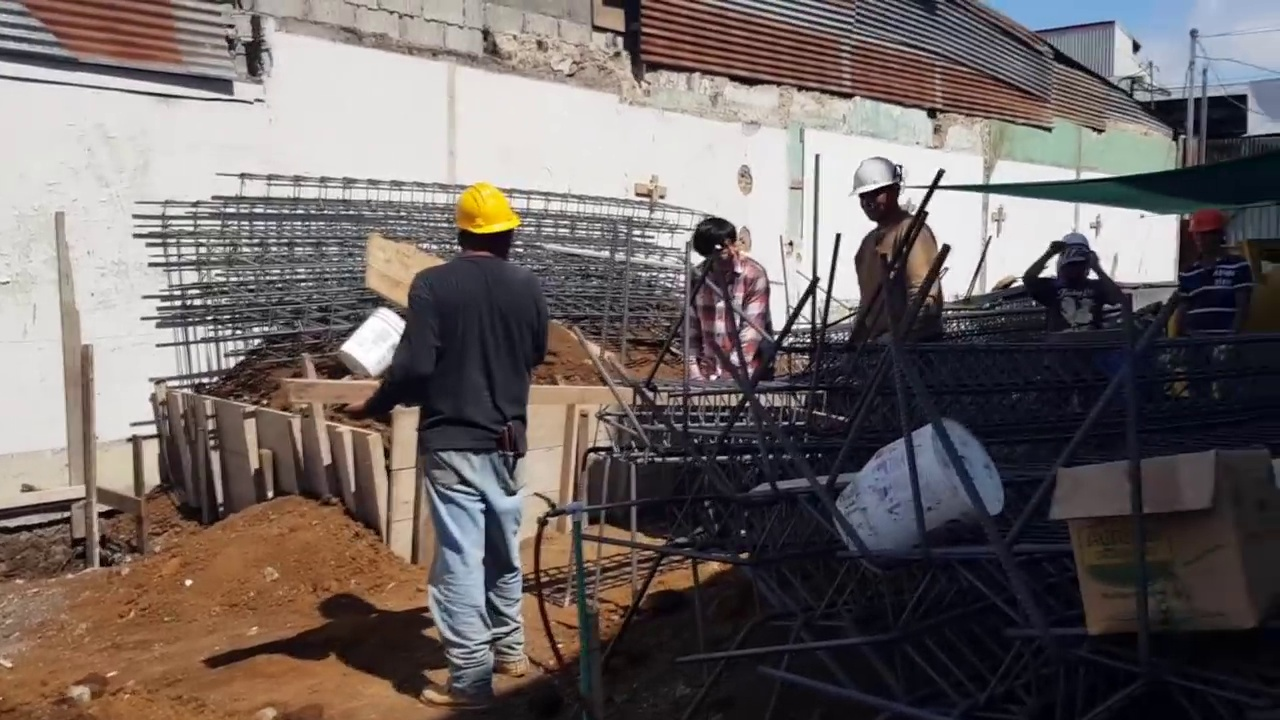helmet: (453, 182, 522, 239), (845, 155, 902, 199), (1188, 208, 1225, 235), (1056, 234, 1093, 252)
helmet-off: (688, 216, 739, 278)
helmet-on: (448, 182, 525, 262), (845, 154, 913, 226), (1048, 235, 1107, 282), (1188, 207, 1228, 257)
person: (340, 172, 551, 707), (831, 143, 945, 344), (683, 212, 777, 380), (1168, 210, 1248, 365), (1040, 238, 1131, 340)
